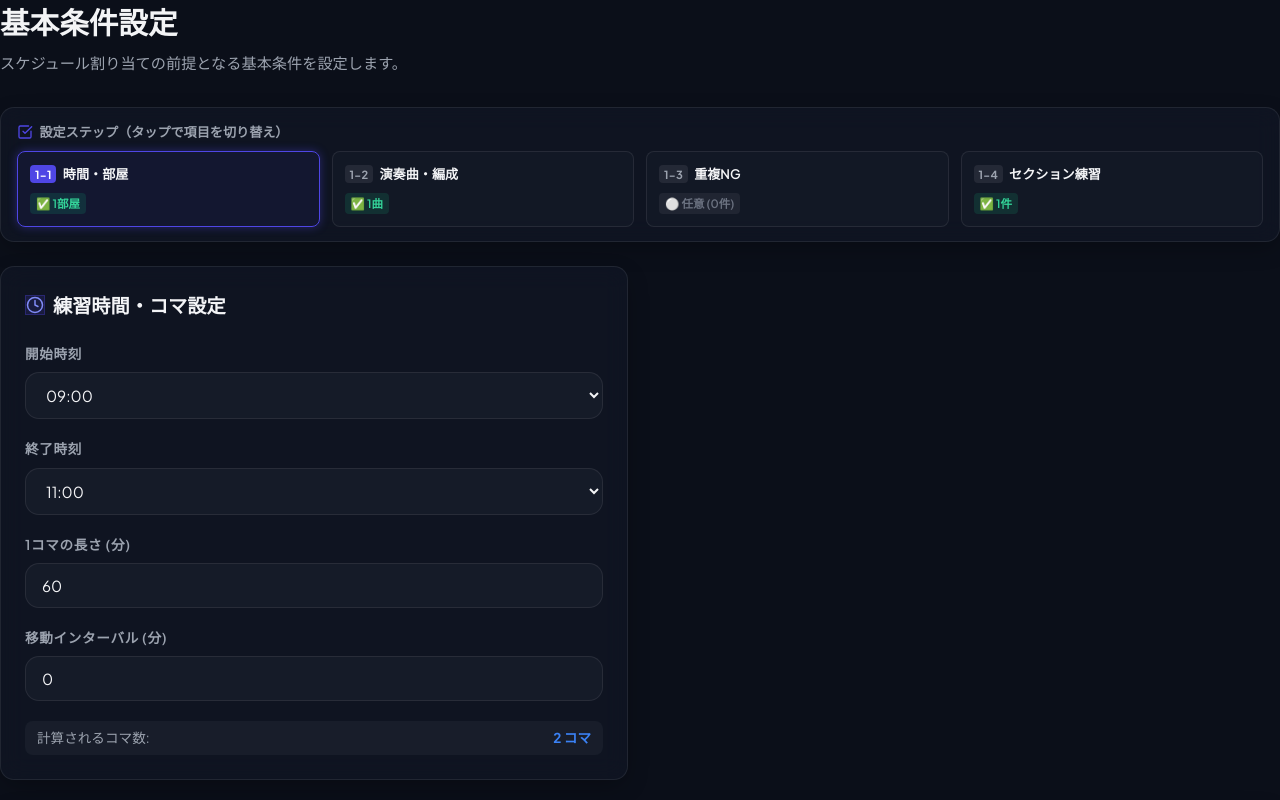
Scenario: Top-level Tab Components › MasterDataTab › renders step dashboard and switches subtabs when clicked
This screenshot has width=1280, height=800.
expect the heading "基本条件設定" is shown: met, box [0, 0, 1279, 44]
expect the text "1-1" is shown: met, box [30, 164, 56, 183]
Click the text "1-2". click: (483, 189)
box: [332, 151, 634, 227]
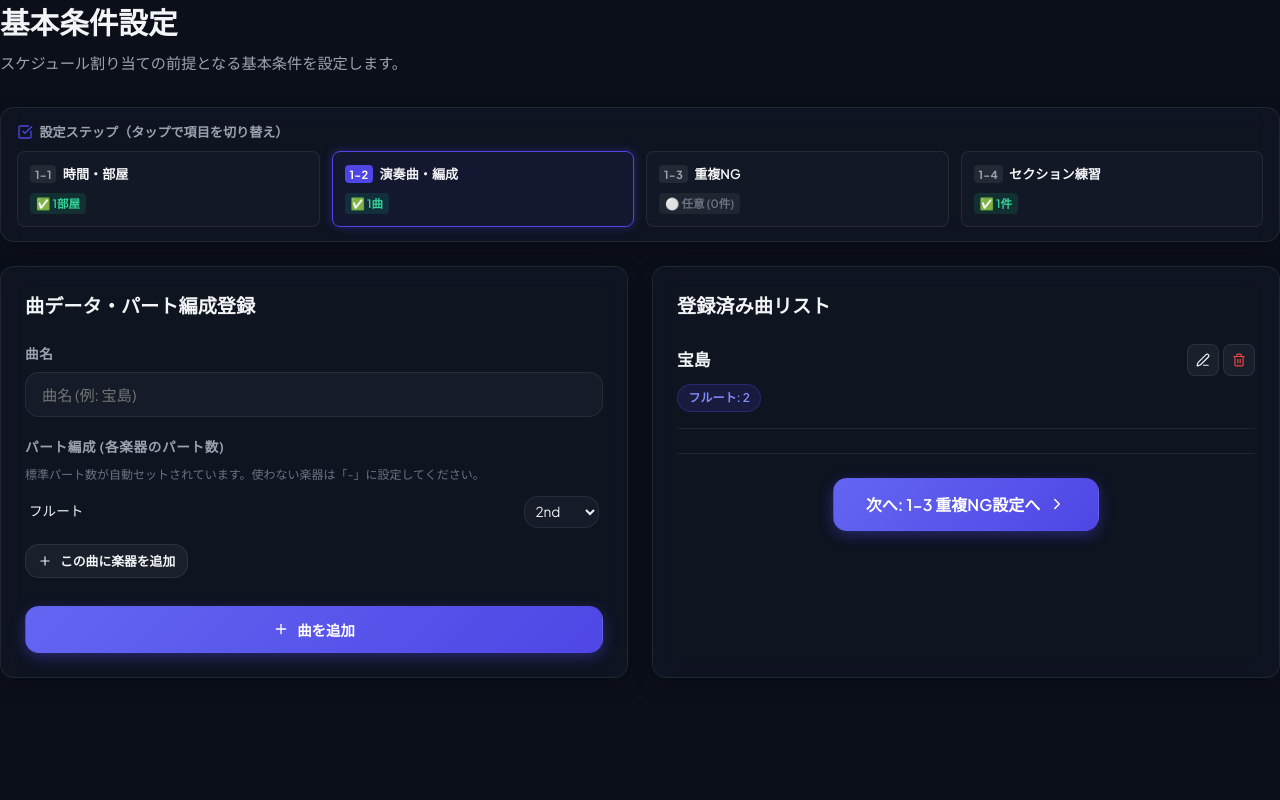
expect the text "1-3" is shown: met, box [664, 166, 683, 180]
expect the heading "曲データ・パート編成登録" is shown: met, box [25, 293, 255, 317]
Click the text "1-3". click: (797, 189)
box: [646, 151, 948, 227]
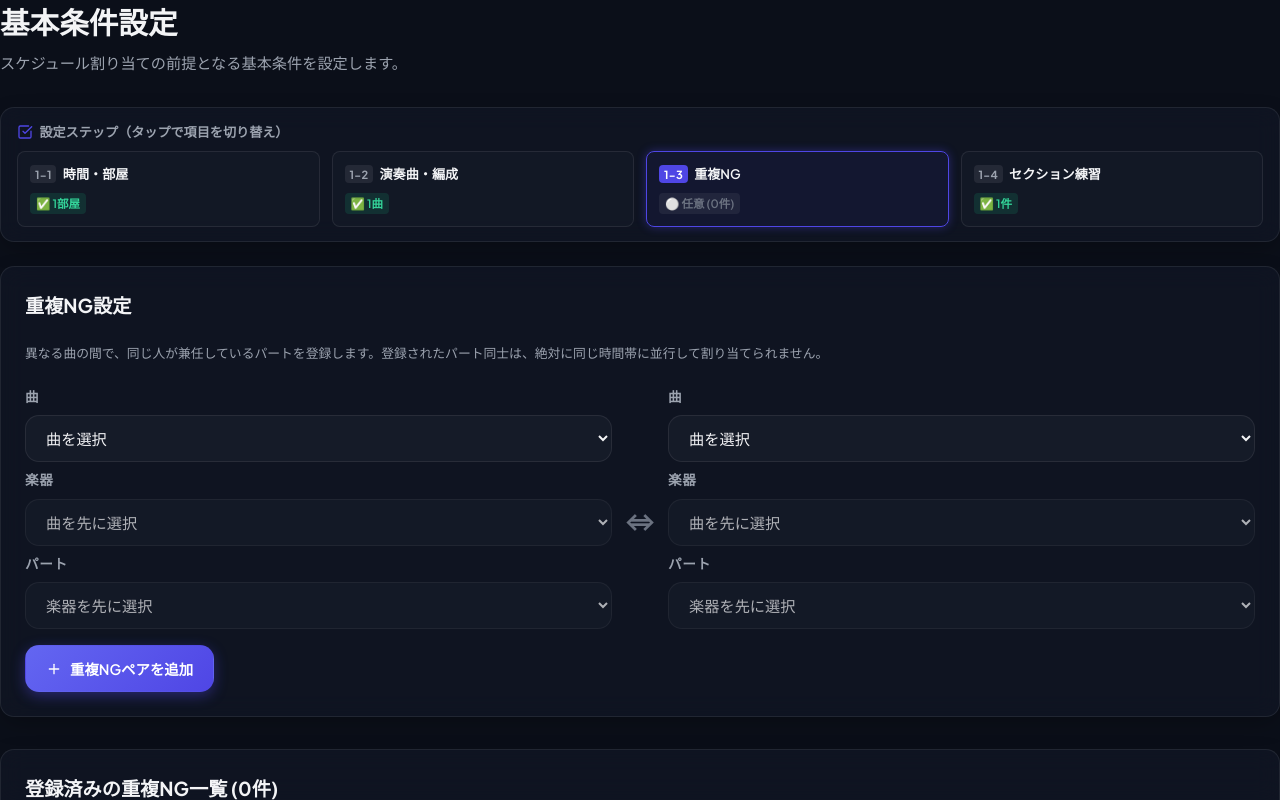
expect the text "1-4" is shown: met, box [978, 166, 998, 180]
expect the heading "重複NG設定" is shown: met, box [25, 293, 132, 317]
Click the text "1-4". click: (1112, 189)
box: [960, 151, 1263, 227]
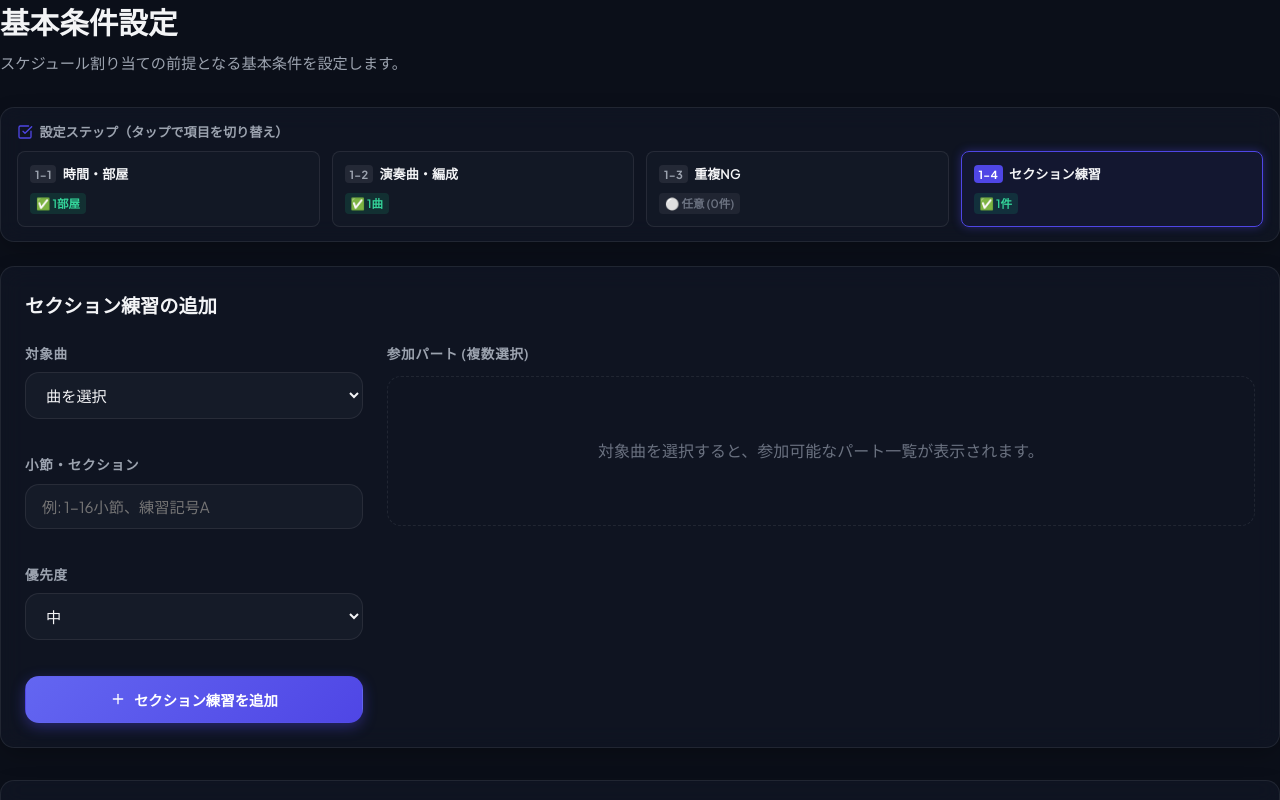
expect the heading "セクション練習の追加" is shown: met, box [25, 293, 217, 317]
